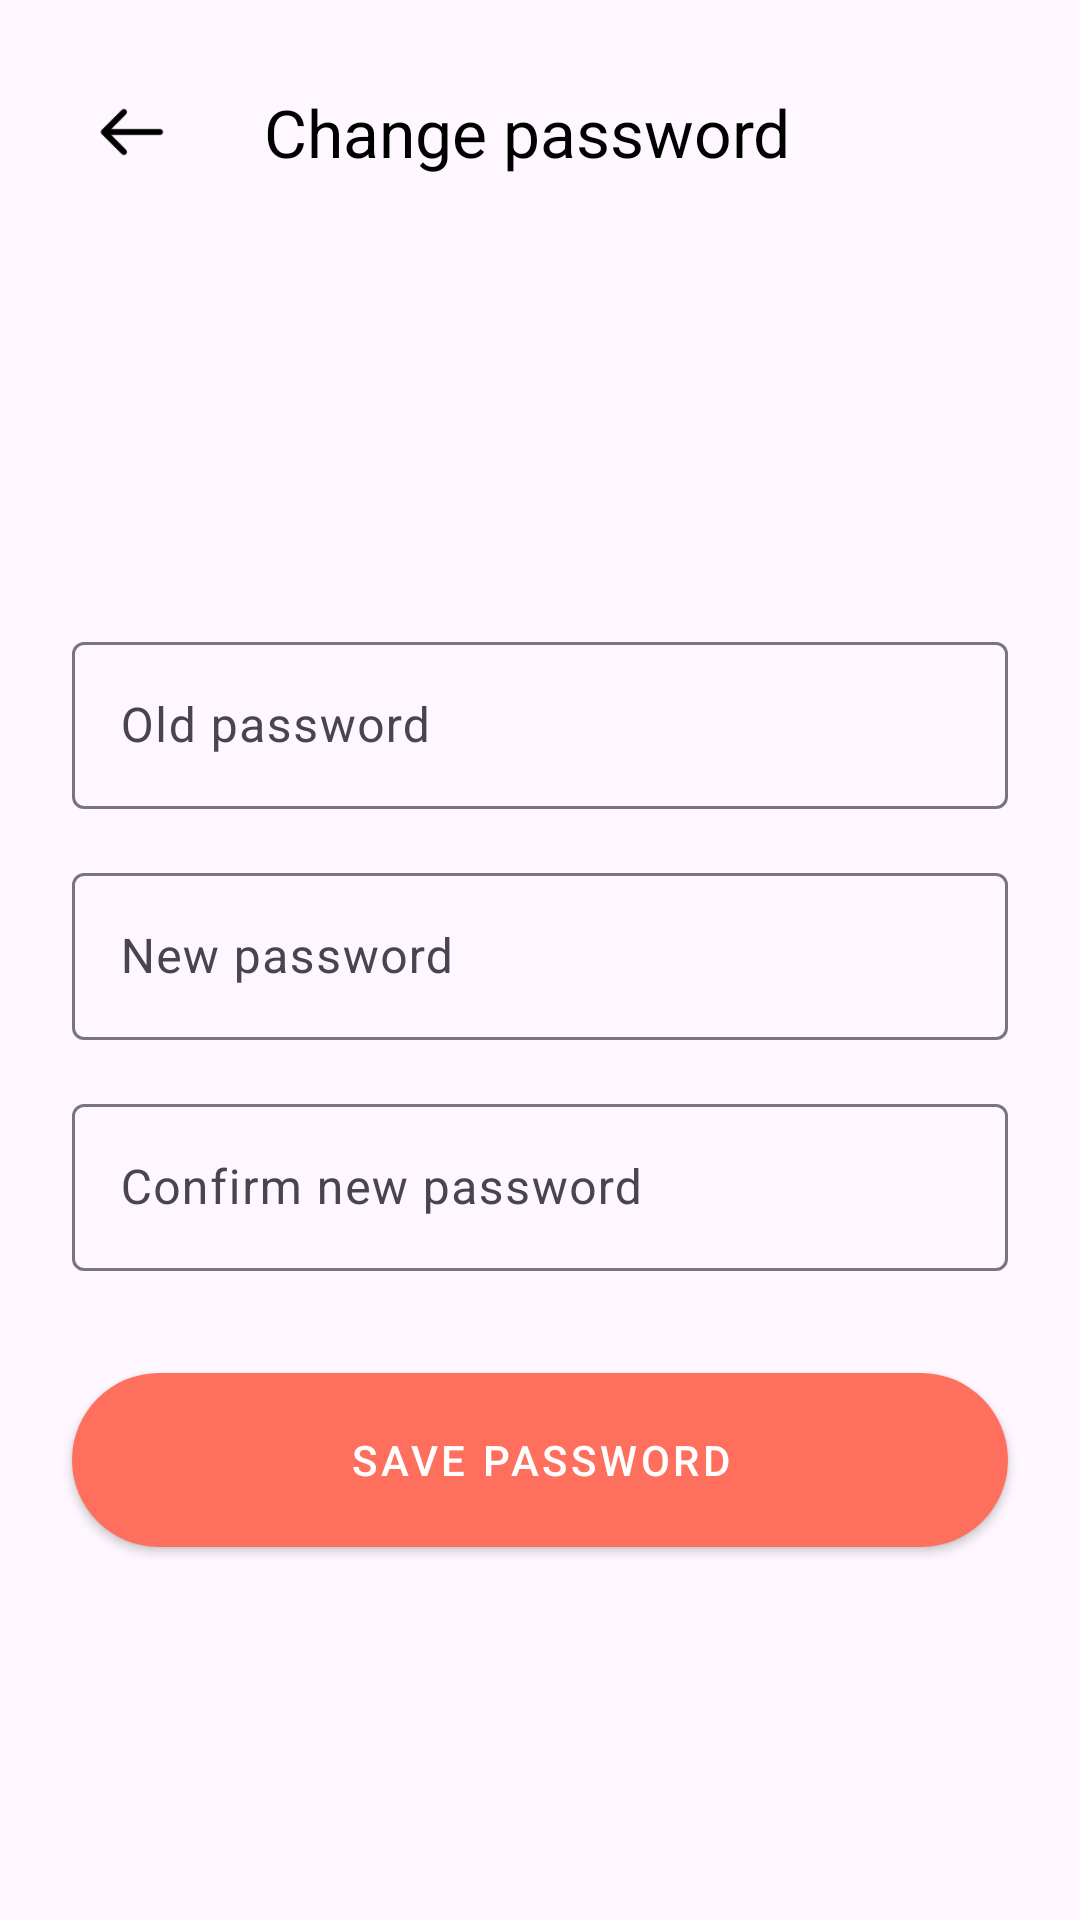

Point at icon controls on the screen. Image size 1080*1920, points as [x,y].
back: [132,132]
